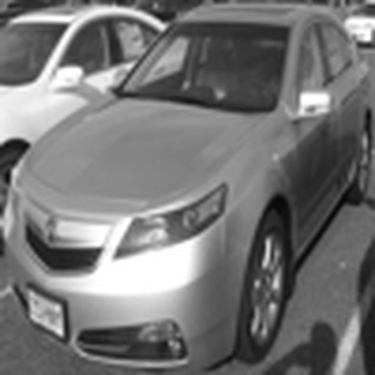car: (6, 1, 372, 373), (4, 4, 187, 208), (342, 1, 371, 50)
